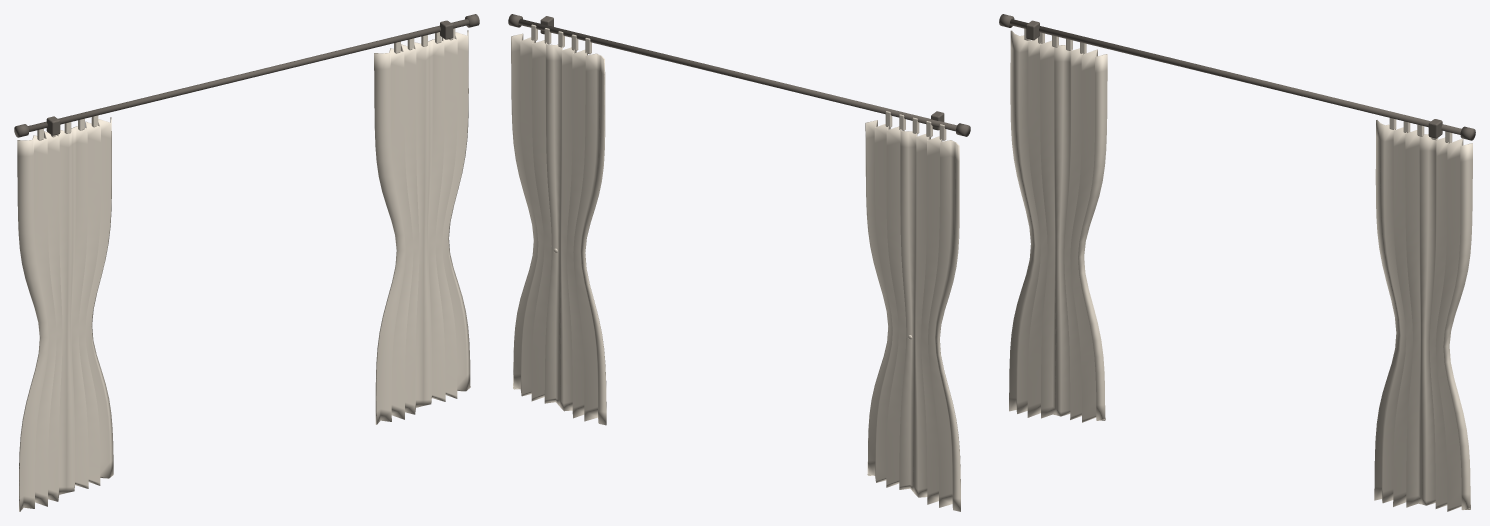
Rendered from window_treatment.glb.
3 renders of one model, left to right at view 1: azimuth 30°, elevation 25°; view 2: azimuth 150°, elevation 25°; view 3: azimuth 330°, elevation 25°, orthographic. The views are drawn at different scales.
Visible parts, largest first — view 1: family_curtain_right_panel, family_curtain_left_panel, family_curtain_rod; view 2: family_curtain_right_panel, family_curtain_left_panel, family_curtain_rod; view 3: family_curtain_left_panel, family_curtain_right_panel, family_curtain_rod.
Boxes of the visible parts, box(x1,y1,x2,y2) form: family_curtain_right_panel: box(374, 30, 470, 424); family_curtain_left_panel: box(17, 117, 113, 511); family_curtain_rod: box(28, 19, 469, 131); family_curtain_right_panel: box(511, 33, 606, 425); family_curtain_left_panel: box(865, 120, 960, 511); family_curtain_rod: box(518, 19, 956, 131); family_curtain_left_panel: box(1009, 30, 1107, 422); family_curtain_right_panel: box(1374, 120, 1472, 511); family_curtain_rod: box(1010, 19, 1461, 134).
Size of the model in its own units: 3.04 by 2.46 by 0.154.
